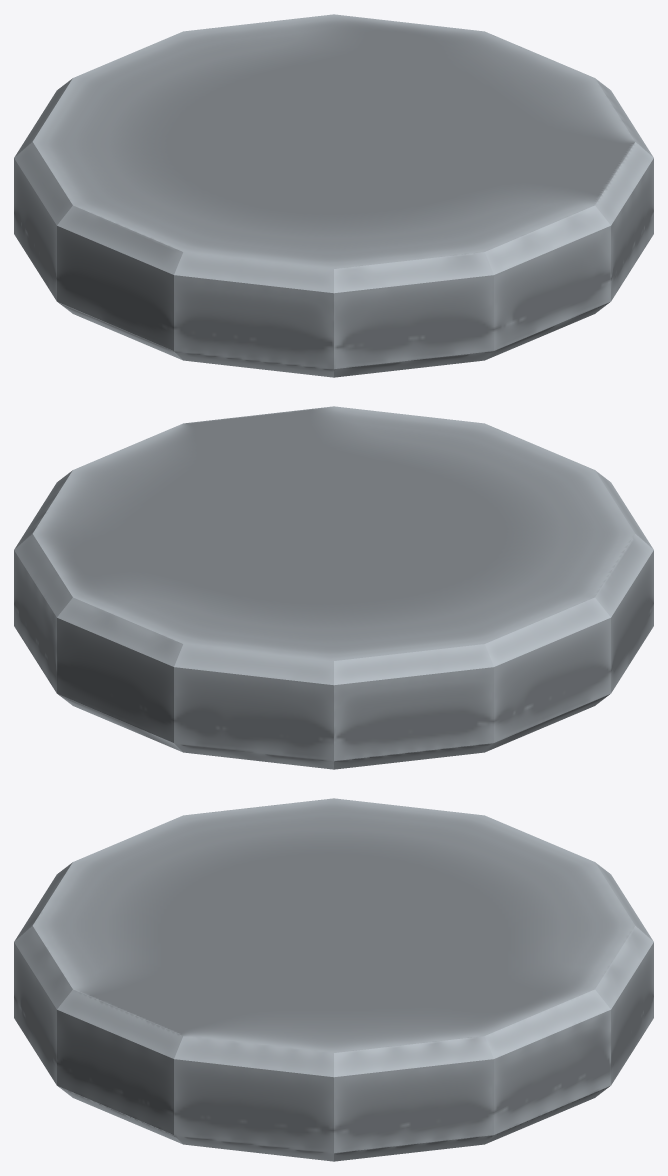
File: Podio_02_Web.glb
3 renders of one model, top to bottom at view 1: azimuth 30°, elevation 25°; view 2: azimuth 150°, elevation 25°; view 3: azimuth 270°, elevation 25°, orthographic.
Parts seen in each view (by area): view 1: Base_Podio; view 2: Base_Podio; view 3: Base_Podio.
Part boxes in pixels (<box>): Base_Podio: <box>14,14,653,377</box>; Base_Podio: <box>14,406,653,769</box>; Base_Podio: <box>14,798,653,1161</box>.
Bounding box in the file's own units: 0.1288 × 0.0241 × 0.1288.
1 material, 1 textured.
